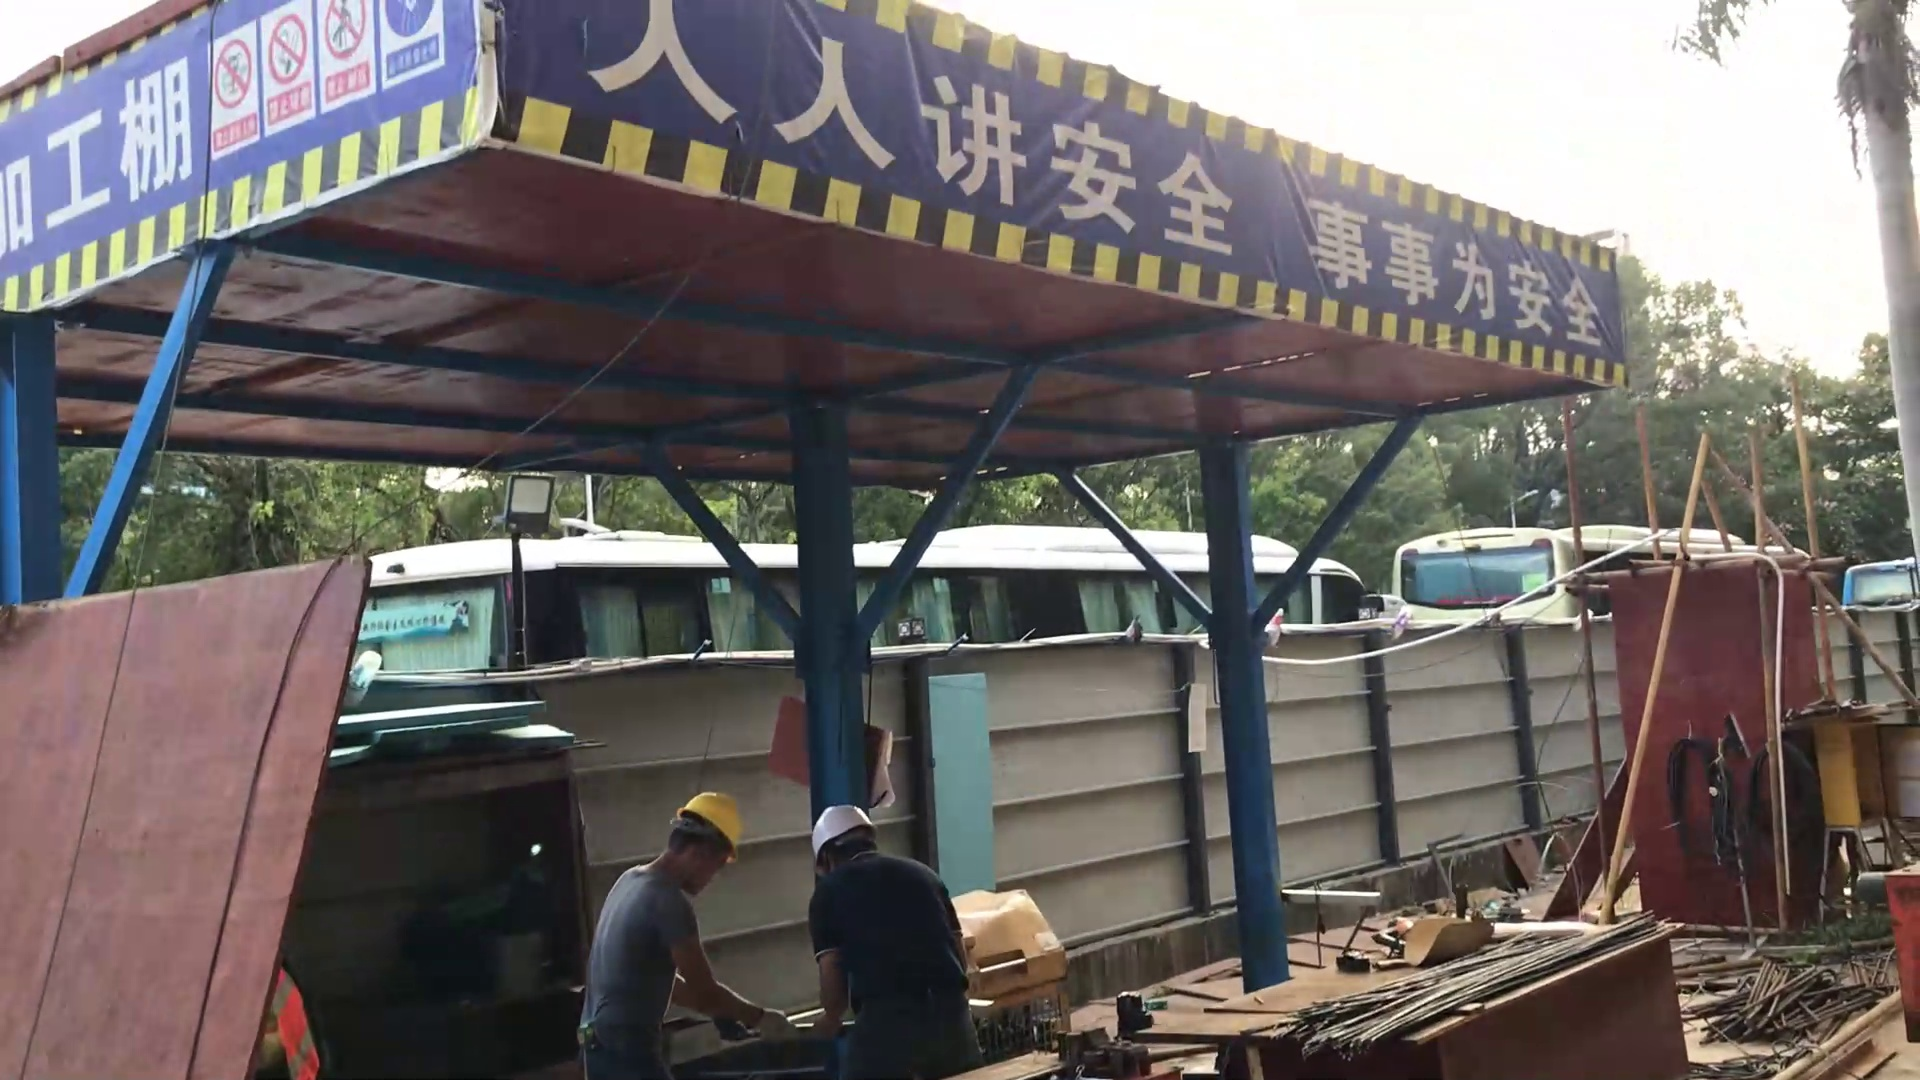ebox: (1798, 683, 1920, 924)
helmet: (672, 786, 748, 869), (803, 802, 879, 864)
person: (574, 774, 790, 1080), (786, 793, 986, 1080)
slogan: (500, 1, 1638, 402)
